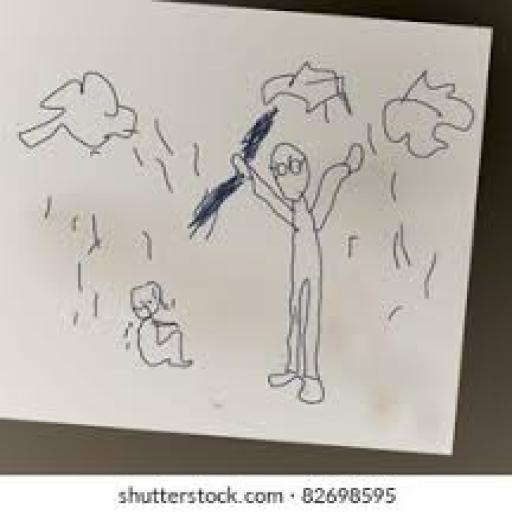person: (226, 130, 371, 414), (122, 270, 198, 388)
